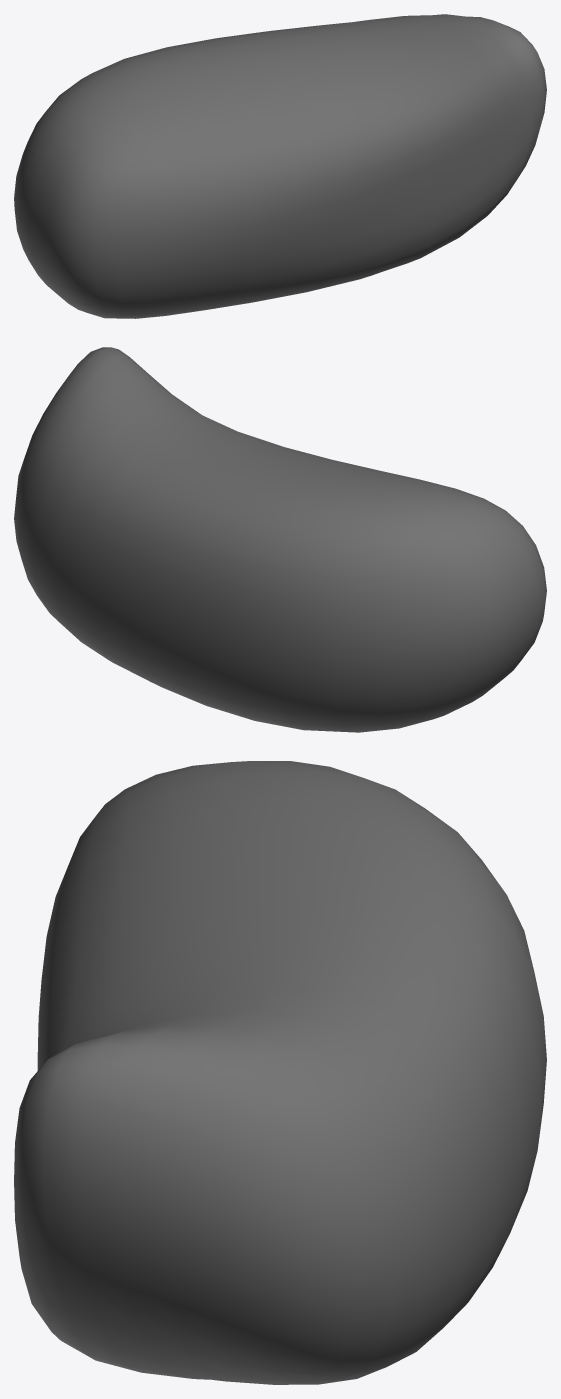
File: rock_3.fbx
3 views of the same model, one above another, from view 1: azimuth 30°, elevation 25°; view 2: azimuth 150°, elevation 25°; view 3: azimuth 270°, elevation 25° (orthographic). The views are drawn at different scales.
Visible parts, largest first — view 1: rock_3; view 2: rock_3; view 3: rock_3.
Part boxes in pixels (<box>): rock_3: <box>14,14,546,318</box>; rock_3: <box>14,347,546,732</box>; rock_3: <box>14,761,546,1384</box>.
Size of the model in its own units: 24.26 by 11.85 by 12.96.
